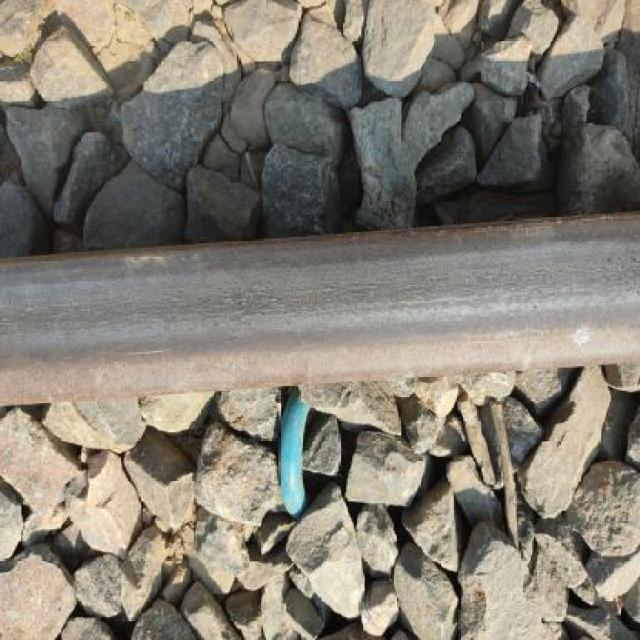non-defective: (0, 190, 638, 415)
